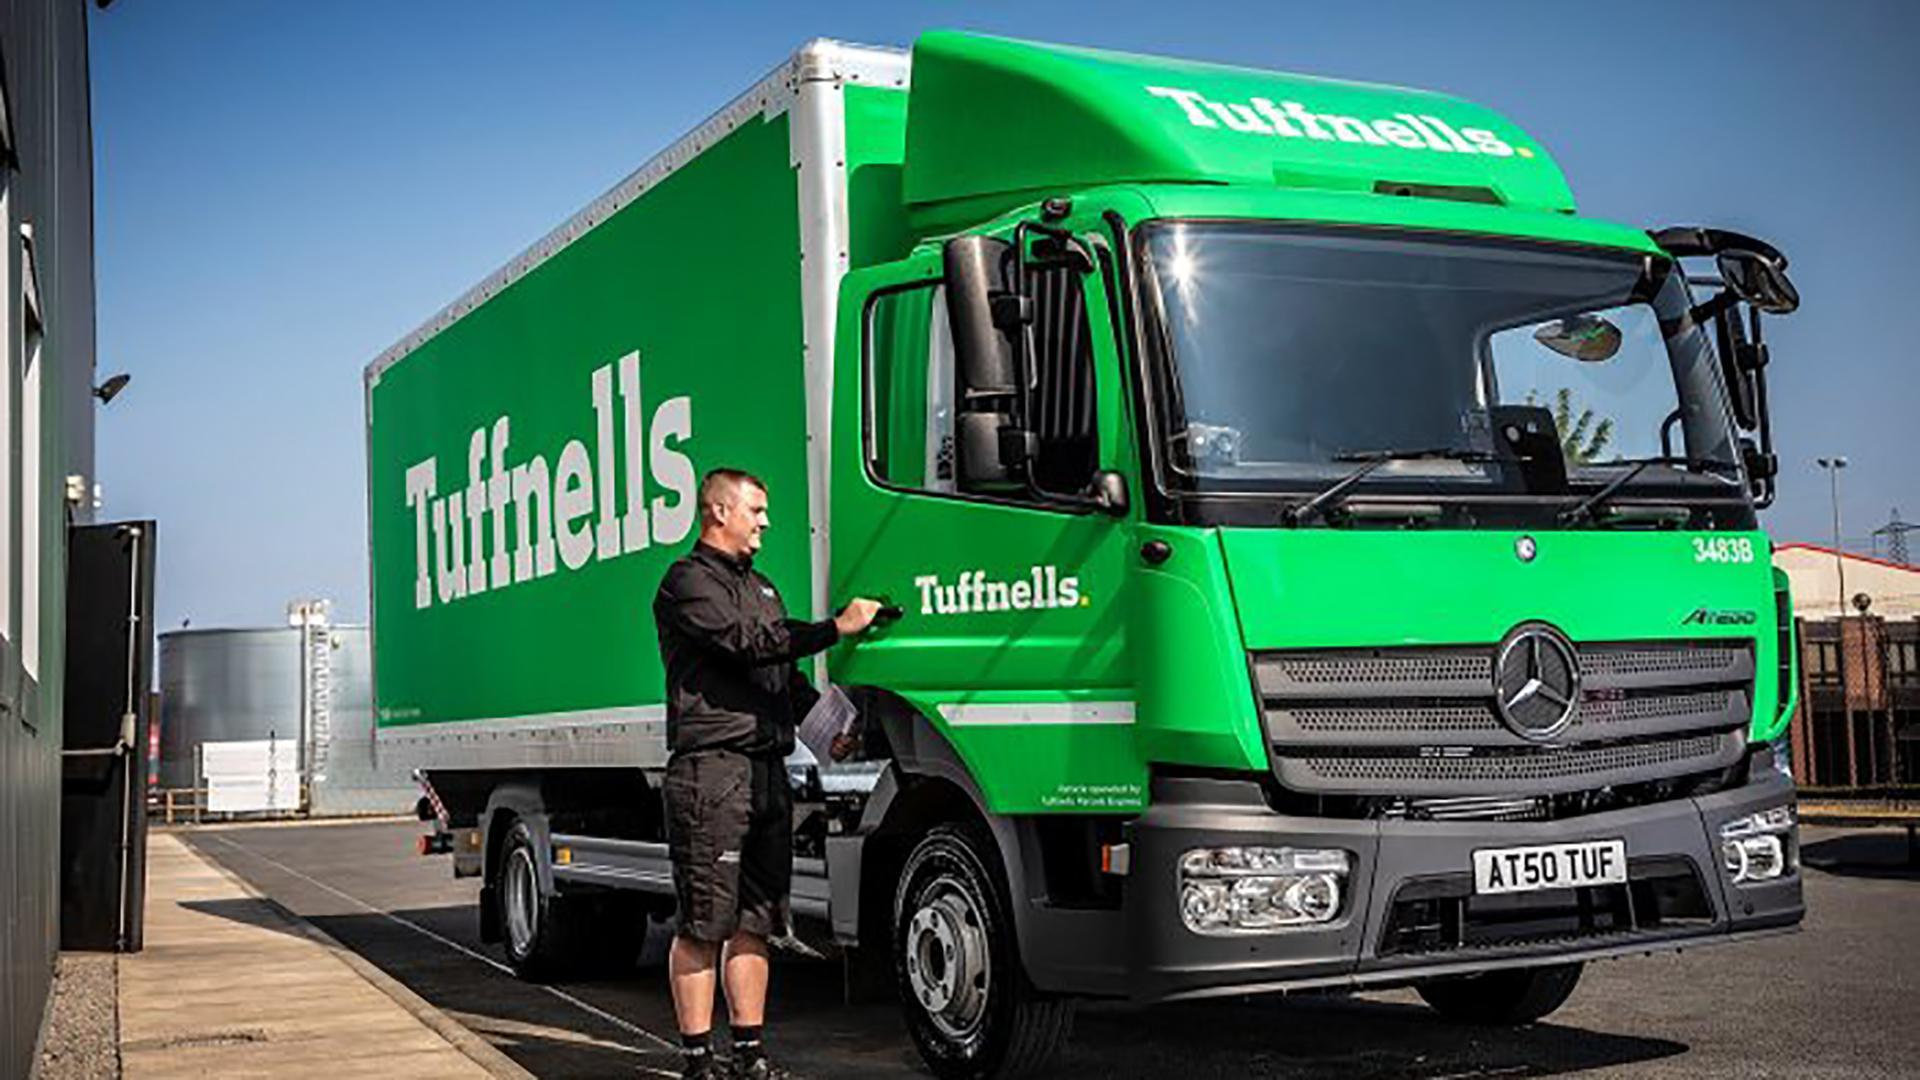truck: (363, 29, 1804, 1080)
